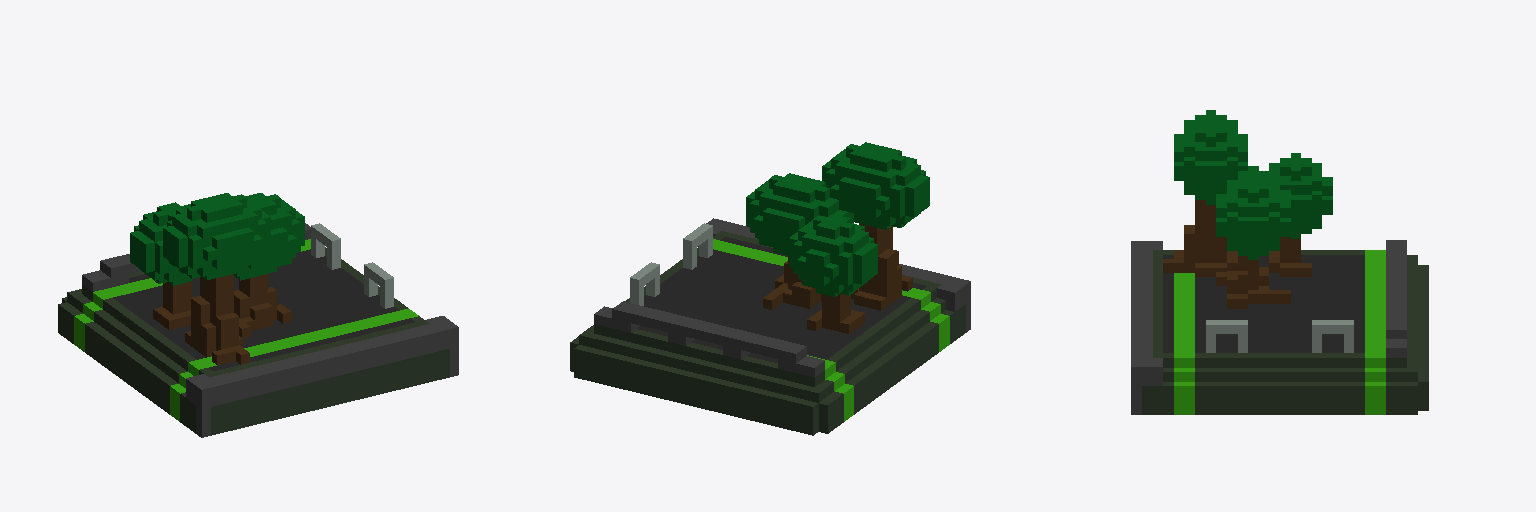
3 views of the same model, side by side, from view 1: azimuth 30°, elevation 25°; view 2: azimuth 150°, elevation 25°; view 3: azimuth 270°, elevation 25° (orthographic).
Visible parts, largest first — view 1: object 1; view 2: object 1; view 3: object 1.
Part boxes in pixels (x1,y1,x2,y2): object 1: (58, 193, 458, 437); object 1: (570, 142, 970, 435); object 1: (1131, 110, 1428, 414).
Size of the model in its own units: 2.8 by 2 by 2.8.
Materials: 1 (1 with a texture image).